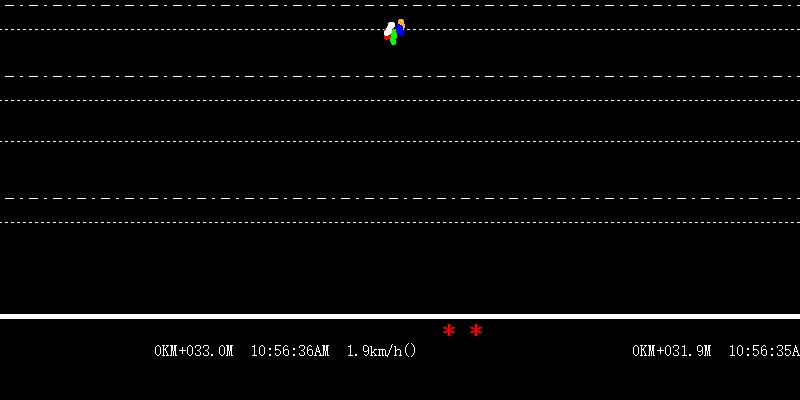face_2: (383, 18, 405, 44)
star: (441, 320, 455, 339), (468, 321, 482, 337)
